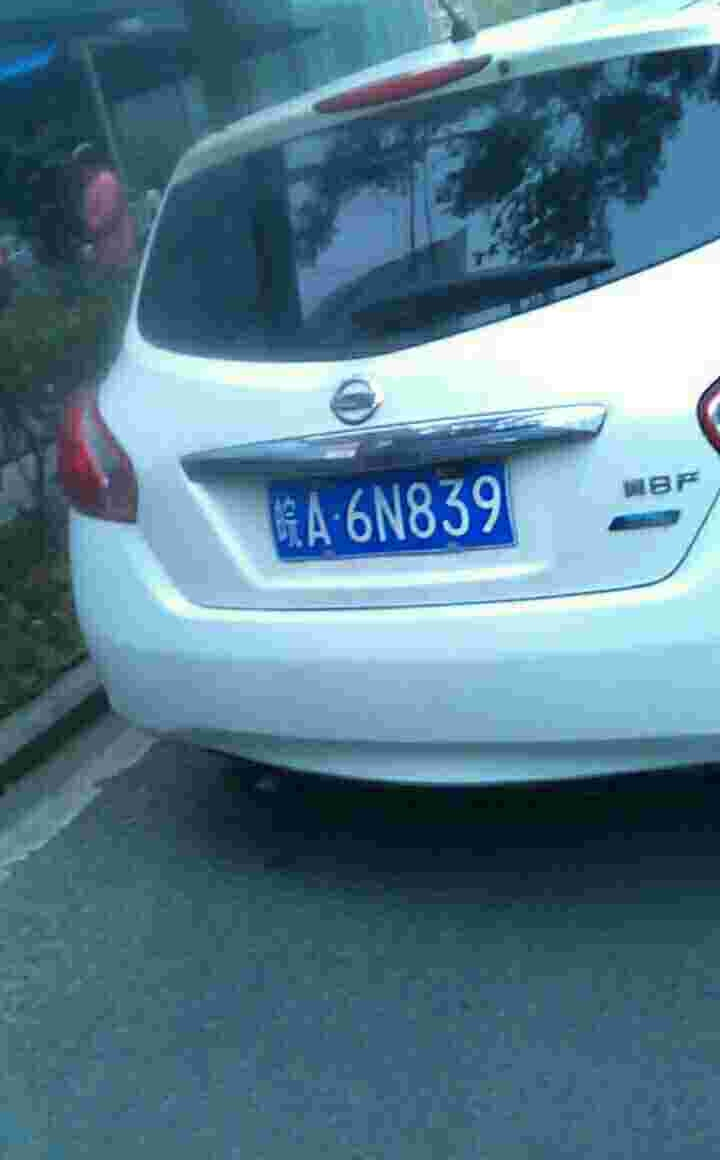license_plate: (257, 471, 508, 548)
